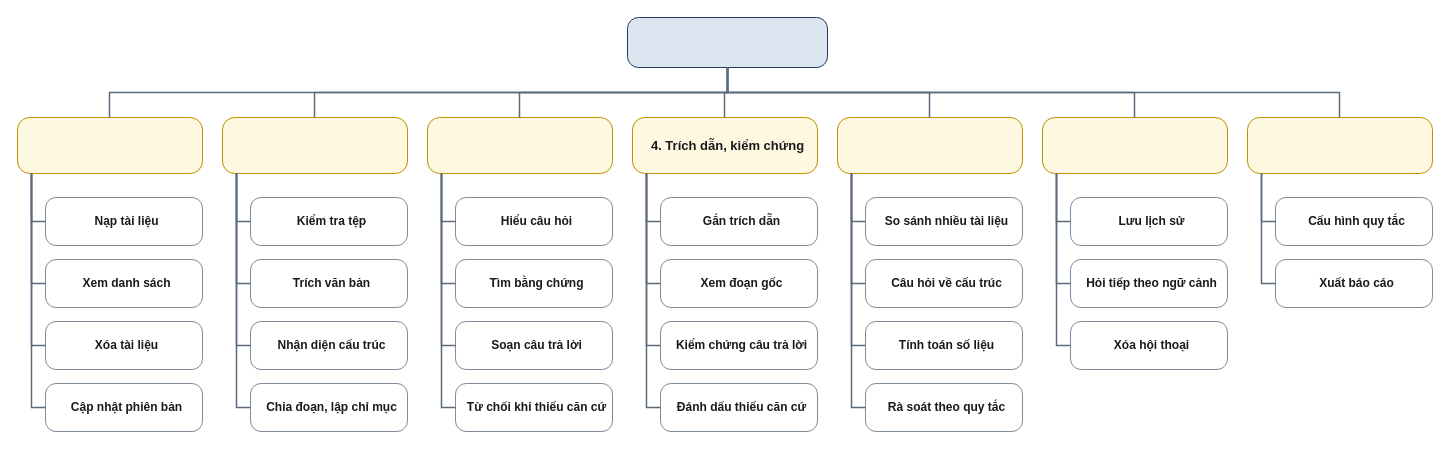
Image size: 1450x449. Some labels were removed from this diagram. The centre of each missing label's shape, as x and y in pixels:
"1. Quản lý tài liệu" belongs at point 109,145.
"2. Xử lý tài liệu" belongs at point 315,145.
"3. Hỏi đáp" belongs at point 519,145.
"5. Phân tích" belongs at point 929,145.
"6. Hội thoại" belongs at point 1135,145.
"7. Quản trị" belongs at point 1339,145.
"VTAgent" belongs at point 727,42.
